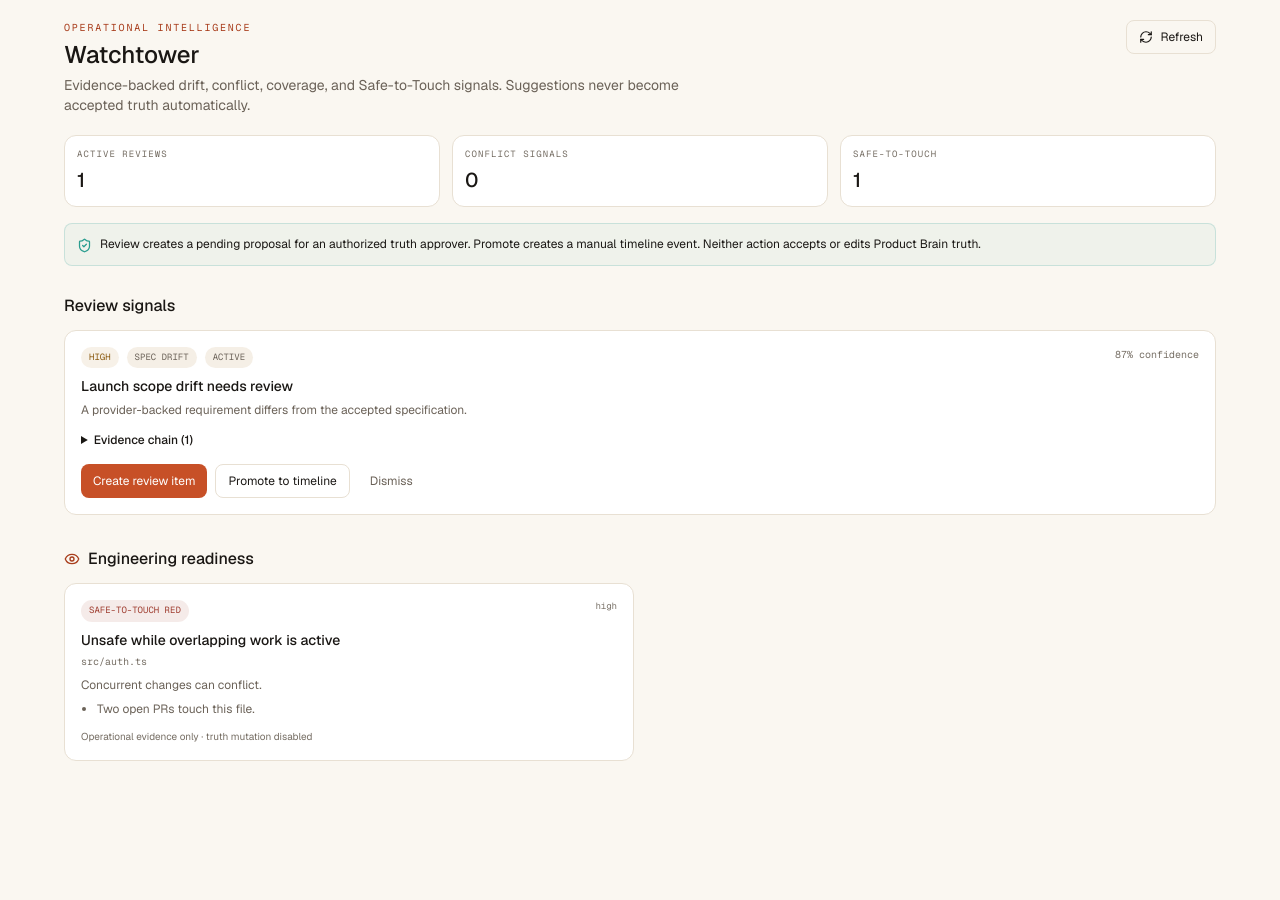
Test: [FIX-23] Watchtower authoritative actions › keeps the finding visible and reports backend action failure honestly
Click the button "Dismiss". click: point(391, 481)
box: [358,464,425,498]
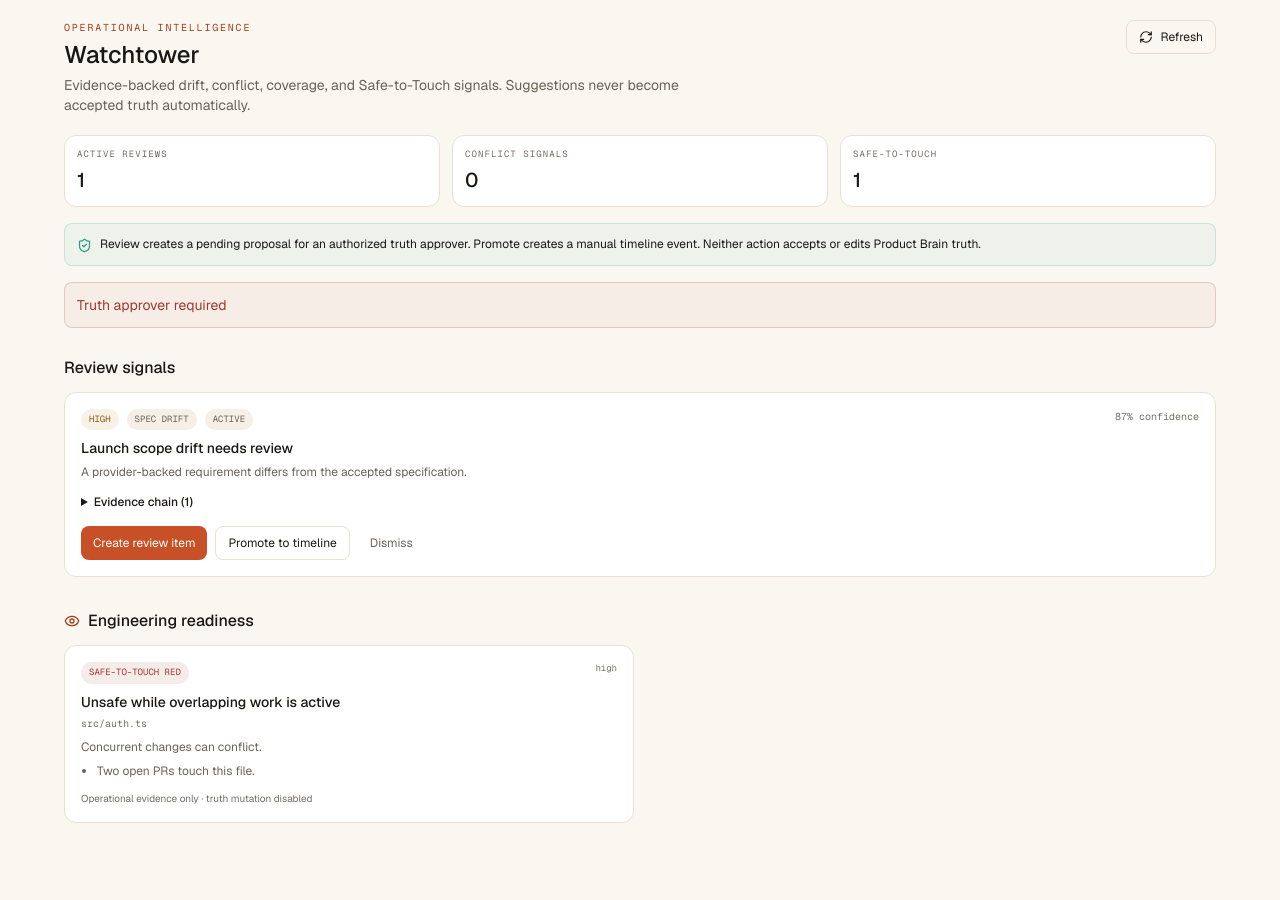
Expected: the heading "Launch scope drift needs review" is shown, [81,439,293,457]
Now the message reads "Truth approver required", box [77,296,227,314]
